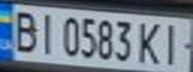0: (57, 12, 81, 59)
3: (112, 17, 136, 63)
5: (78, 15, 100, 60)
8: (93, 16, 118, 61)
B: (6, 7, 39, 53)
I: (157, 20, 187, 66), (33, 10, 60, 55)
K: (133, 18, 163, 65)
